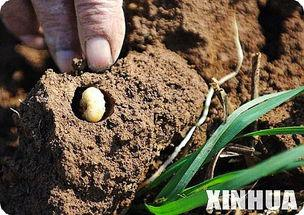grub: (75, 86, 107, 124)
